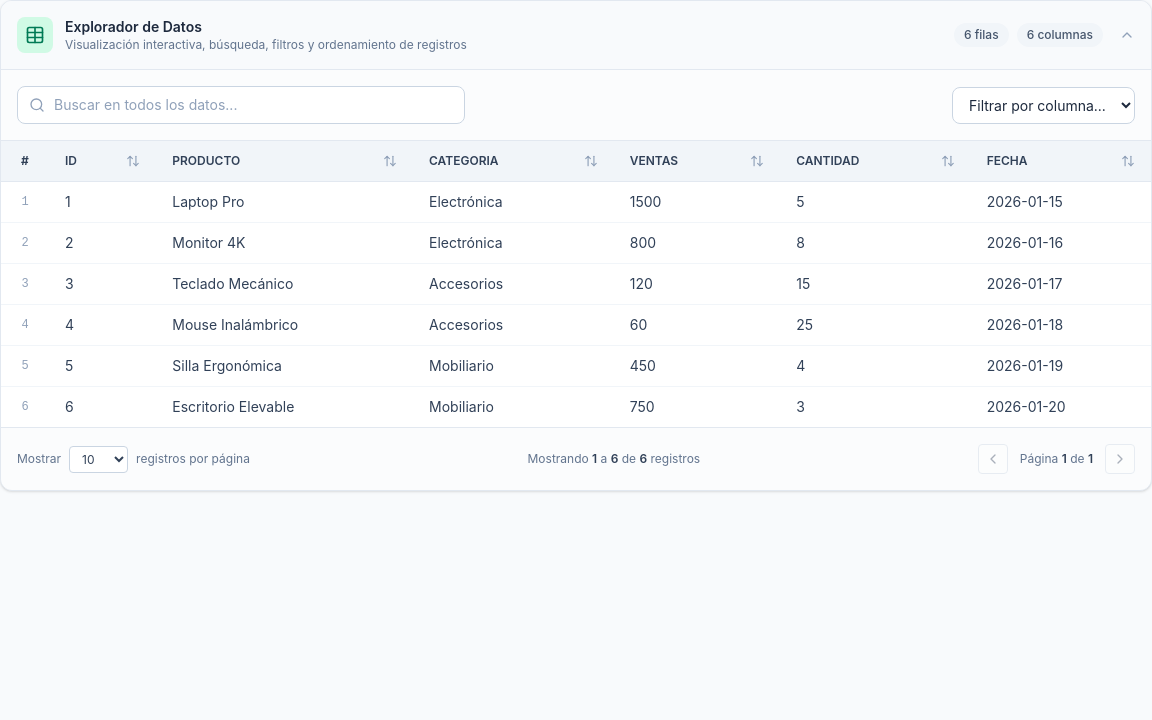
Test: Componente DataExplorer › debe permitir limpiar filtros con el botón Limpiar
Type "Laptop" into the field with placeholder "Buscar en todos los datos..." at (241, 105), box [17,86,465,124]
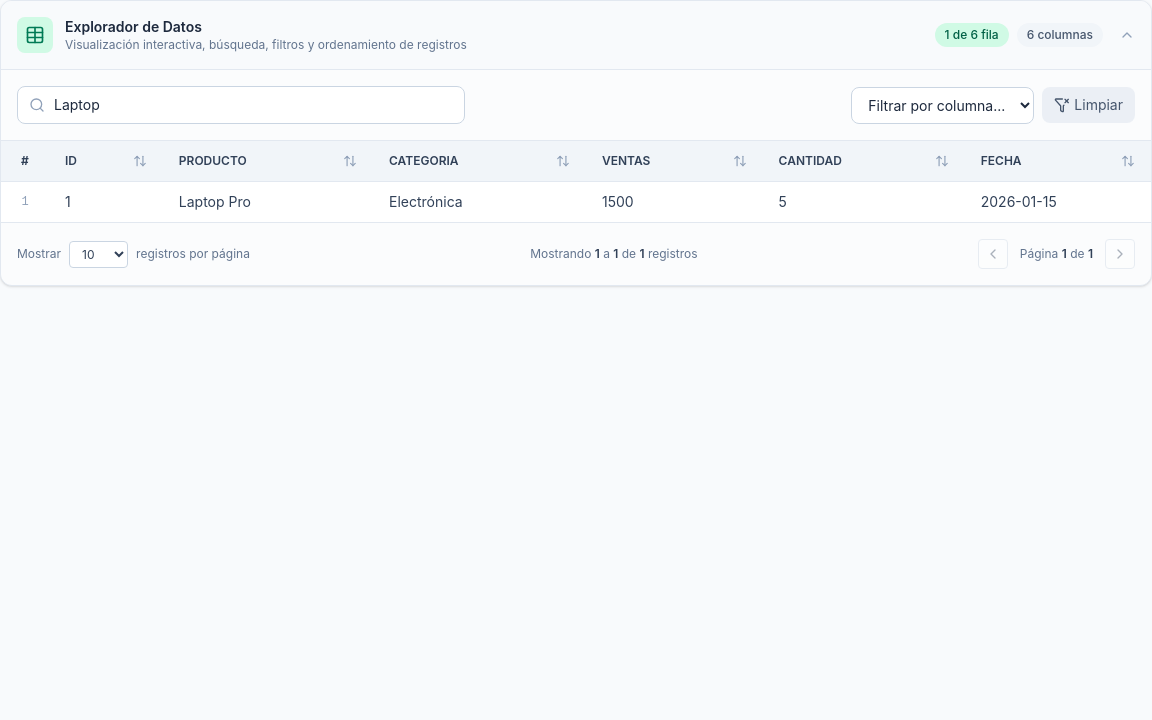
Check: the button "Limpiar" is shown
Click the button "Limpiar" at (1089, 105), box [1042,87,1135,123]
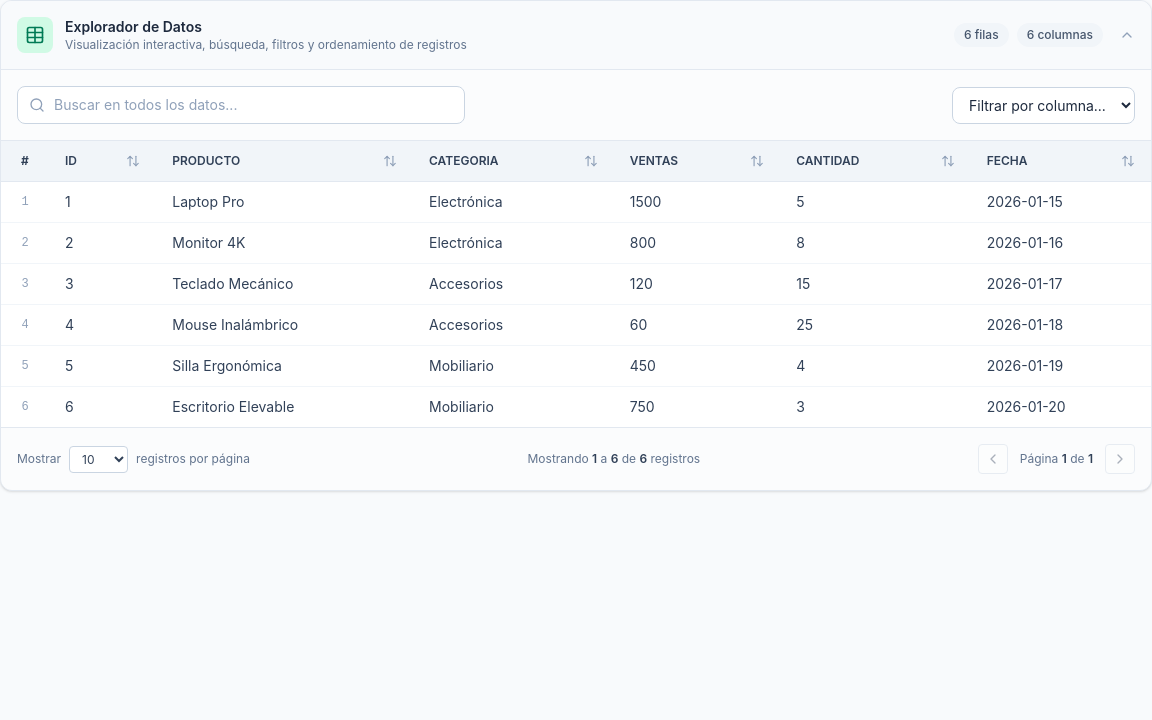
Check: the field with placeholder "Buscar en todos los datos..." is empty, box [17,86,465,124]
Check: the text "Monitor 4K" is shown, box [156,222,413,264]
Check: the text "Teclado Mecánico" is shown, box [156,264,413,304]
